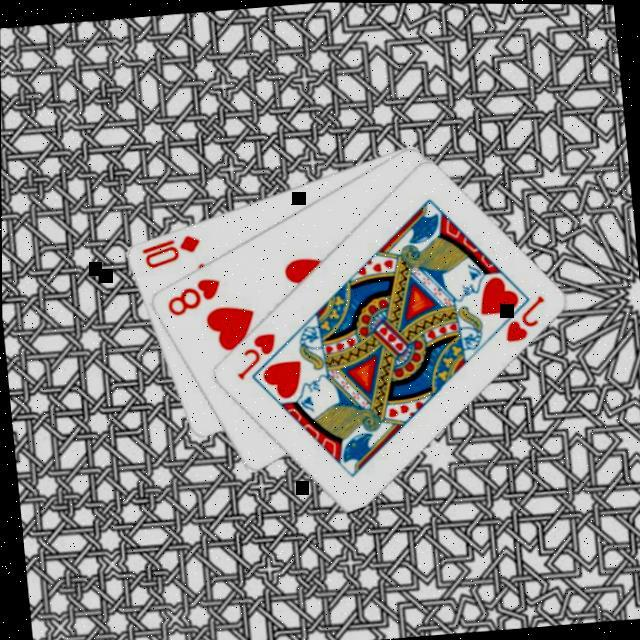10D: (136, 228, 204, 269)
8H: (160, 272, 224, 316)
JH: (229, 326, 281, 381), (498, 288, 550, 342)
